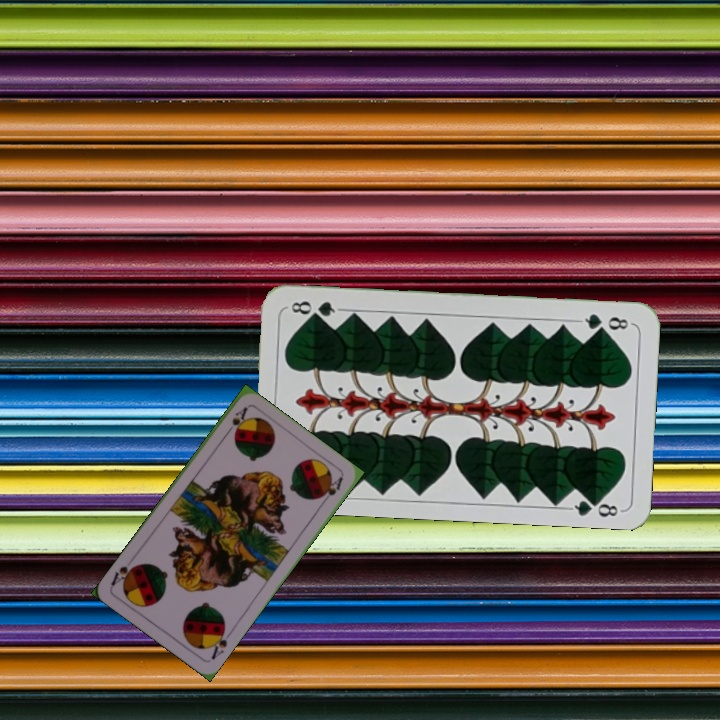G8: (575, 309, 634, 334)
SA: (205, 623, 235, 662), (221, 403, 250, 438)
